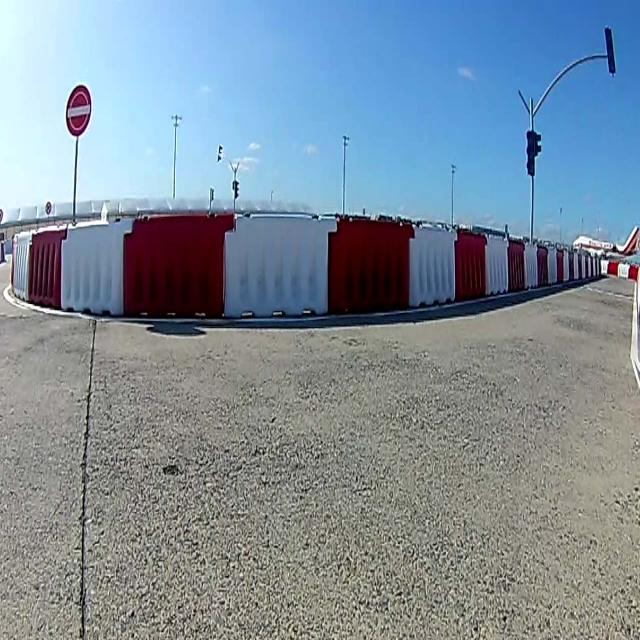girisyok: (65, 84, 91, 137)
